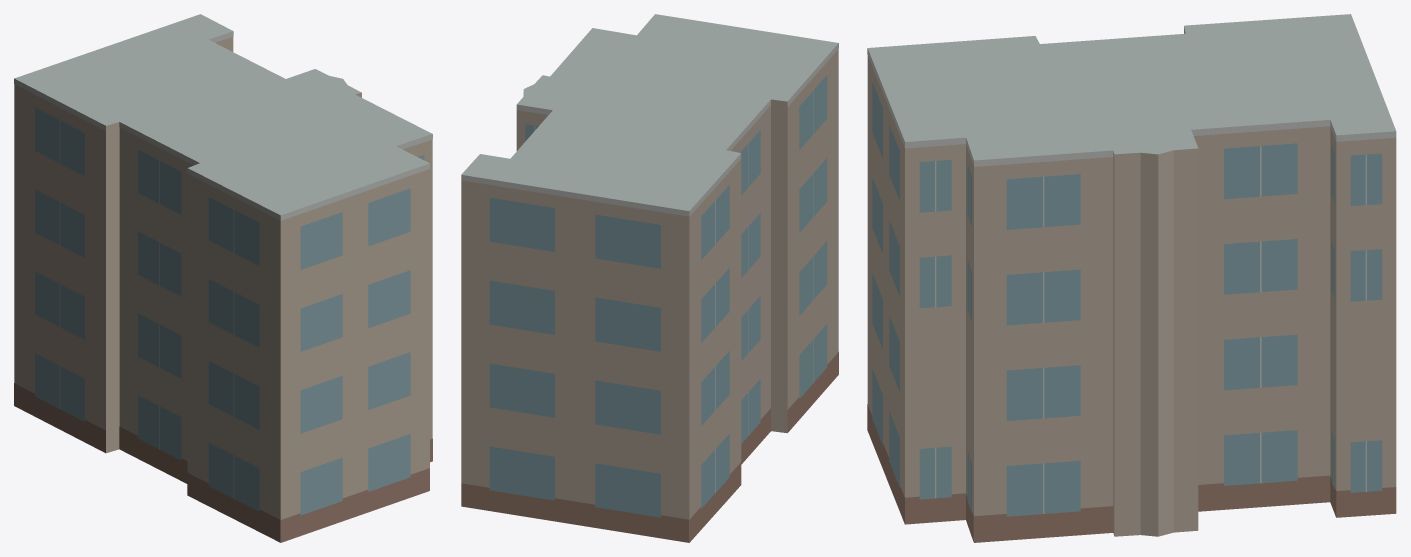
File: survey-upis-32704259.glb
3 renders of one model, left to right at view 1: azimuth 30°, elevation 25°; view 2: azimuth 150°, elevation 25°; view 3: azimuth 270°, elevation 25°, orthographic. The views are drawn at different scales.
Parts seen in each view (by area): view 1: survey-upis-32704259.tmp; view 2: survey-upis-32704259.tmp; view 3: survey-upis-32704259.tmp.
Part boxes in pixels (x1=…): survey-upis-32704259.tmp: x1=14, y1=14, x2=432, y2=542; survey-upis-32704259.tmp: x1=461, y1=14, x2=838, y2=542; survey-upis-32704259.tmp: x1=867, y1=14, x2=1396, y2=542.
Size of the model in its own units: 11.95 by 14.53 by 18.23.
